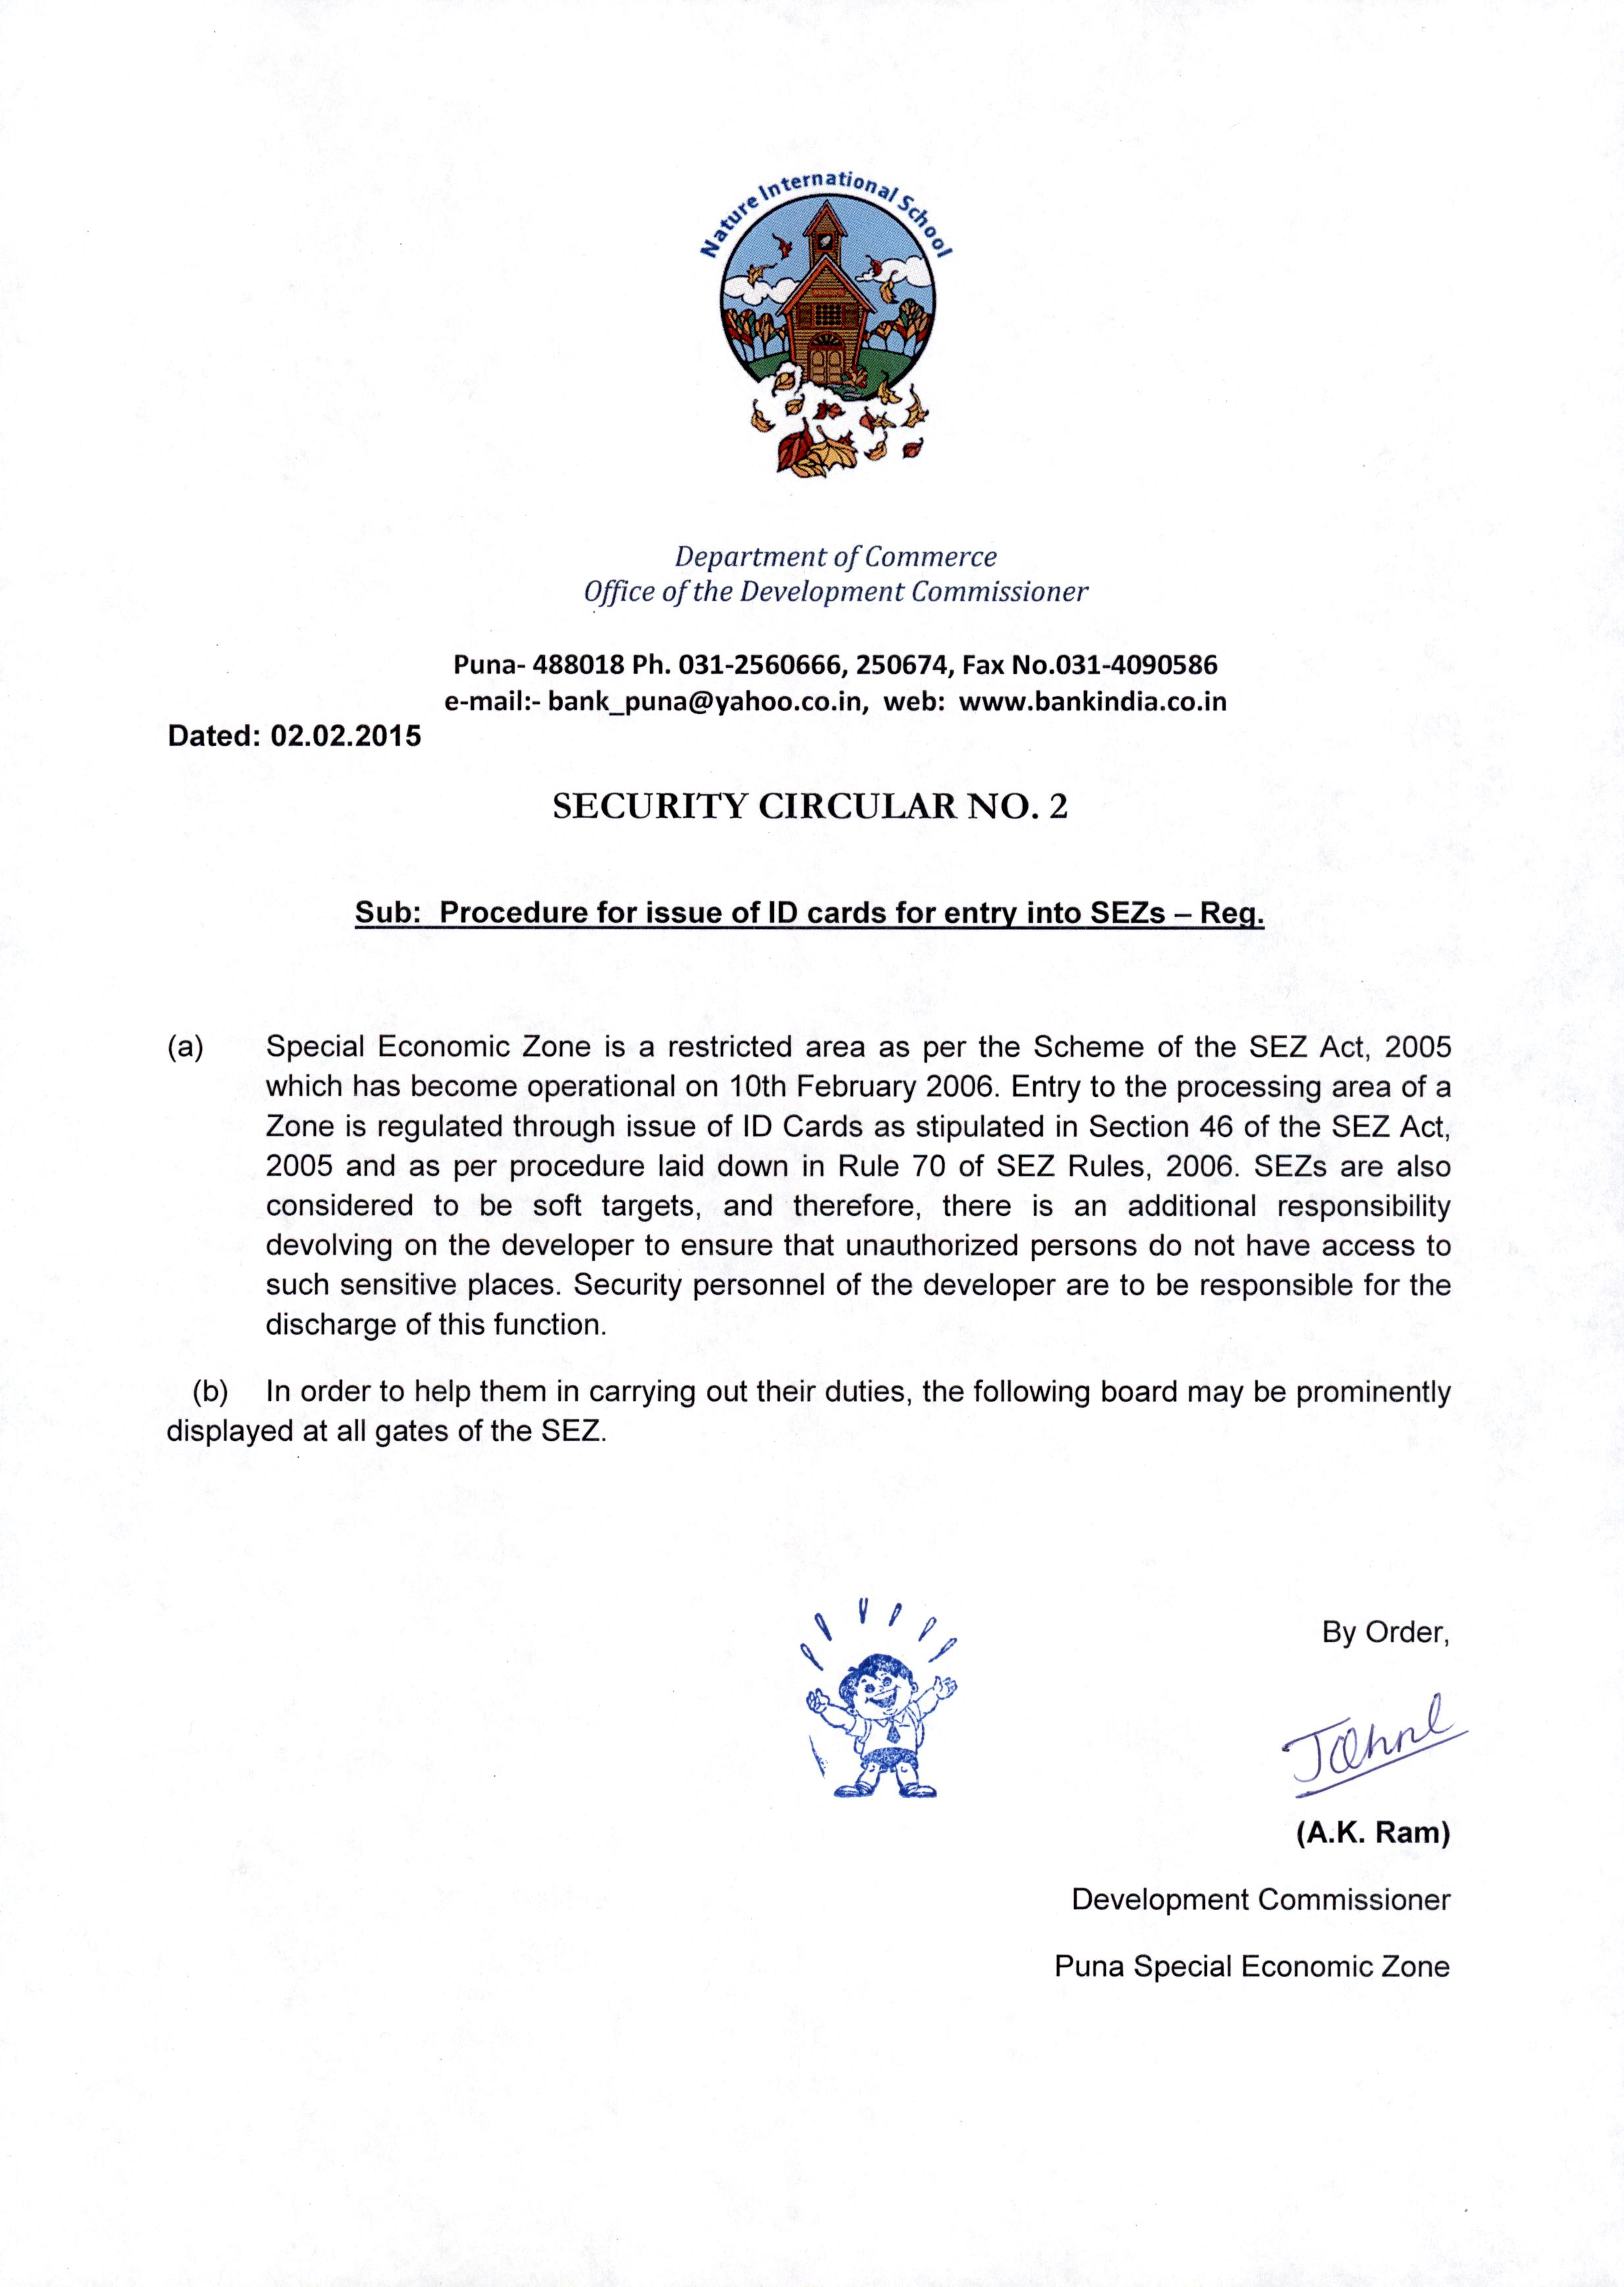Signature: (1280, 1681, 1475, 1804)
